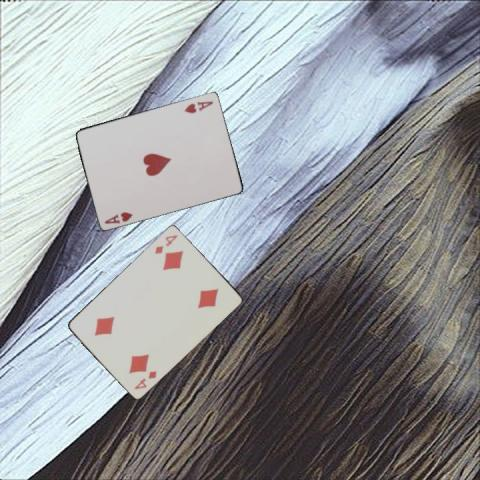4d: (152, 232, 180, 256), (131, 367, 158, 391)
Ah: (181, 98, 215, 115), (101, 208, 134, 224)
